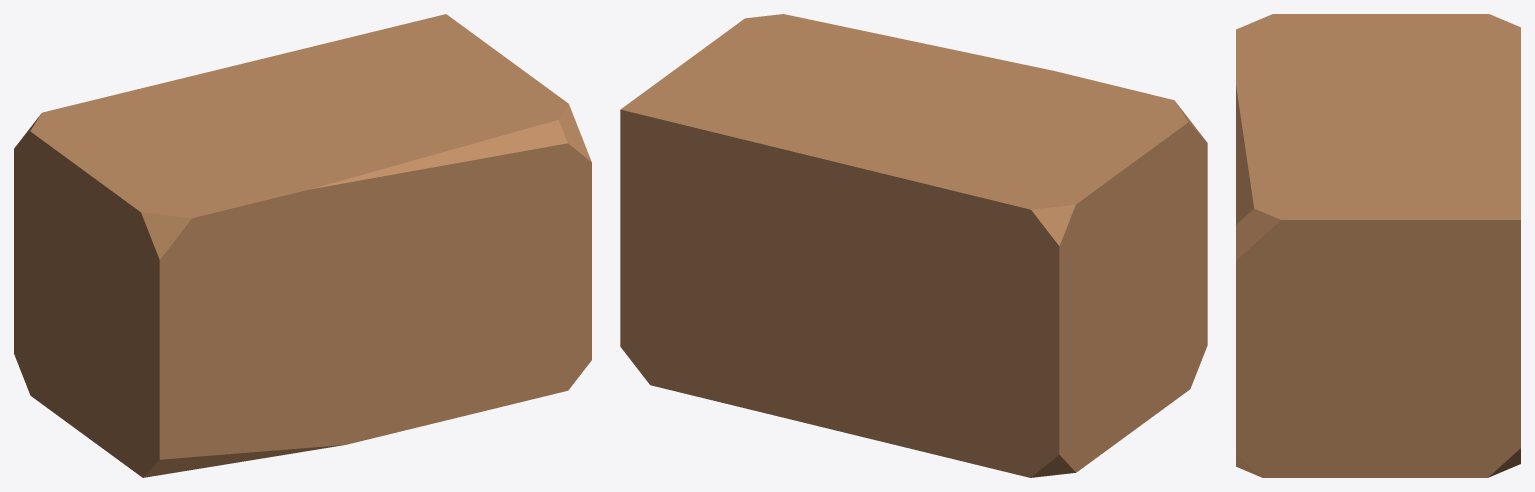
The model's file is Block_03.fbx.
3 views of the same model, side by side, from view 1: azimuth 30°, elevation 25°; view 2: azimuth 150°, elevation 25°; view 3: azimuth 270°, elevation 25° (orthographic). The views are drawn at different scales.
Parts seen in each view (by area): view 1: Block_03; view 2: Block_03; view 3: Block_03.
Boxes of the visible parts, box(x1,y1,x2,y2) form: Block_03: box(14, 14, 591, 477); Block_03: box(620, 14, 1207, 477); Block_03: box(1236, 14, 1520, 477).
Size of the model in its own units: 31.15 by 18.19 by 18.19.
